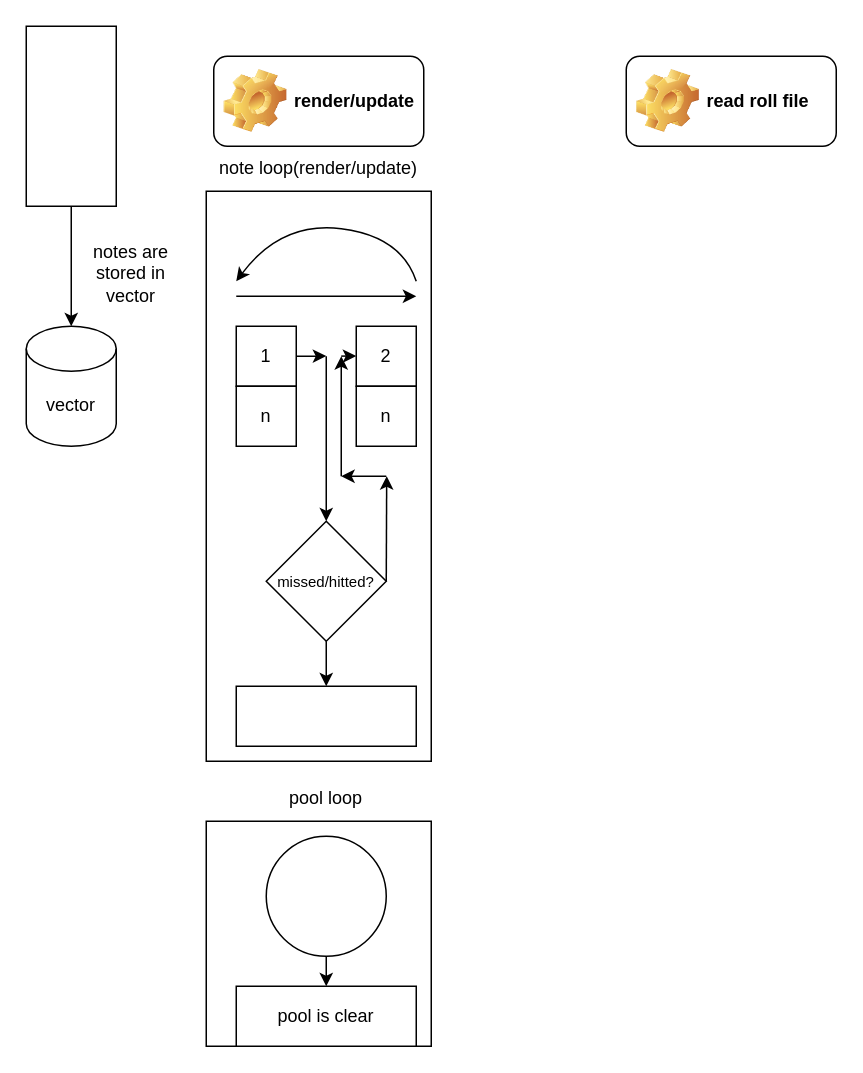
The diagram is 863 pixels wide and 1073 high, and some of its shapes have lost their labels. The centre of each missing label's shape, as x and y in pixels:
"erased by the pool" belongs at [325,895].
"Note" belongs at [70,115].
"place in the pool" belongs at [325,715].
